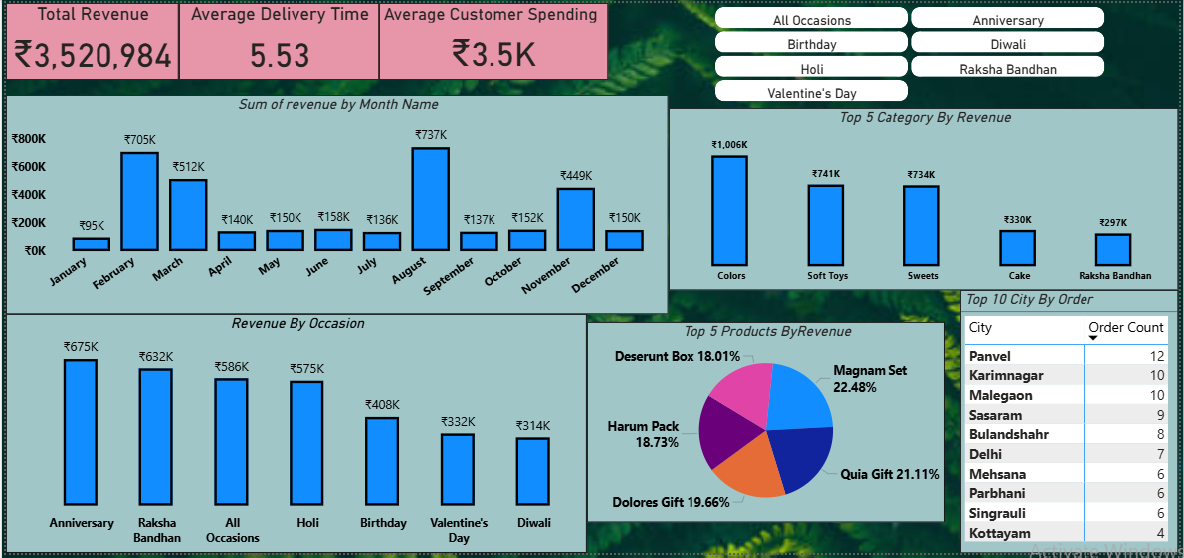

What the dashboard file says about the page in this screenshot:
{"tool":"powerbi","page":{"name":"Page 1","canvas":[1500,700],"ordinal":0},"visuals":[{"type":"card","title":"Total Revenue","fields":{"Values":["Sum(orders.sale)"]},"box":[0,0,221.2,98],"z":0},{"type":"card","title":"Average Delivery Time","fields":{"Values":["Avg(orders.diff_order_delivery)"]},"box":[221.2,0,256.2,98],"z":1000},{"type":"columnChart","fields":{"Category":["orders.Month Name"],"Y":["Sum(orders.revenue)"]},"box":[0,117.6,847,278.6],"z":2000},{"type":"pieChart","title":"Top 5 Products ByRevenue","fields":{"Category":["products.Product_Name"],"Y":["Sum(orders.revenue)"]},"box":[743.4,406,457.8,254.8],"z":3000},{"type":"card","title":"Average Customer Spending","fields":{"Values":["Avg(orders.revenue)"]},"box":[477.4,0,292.6,98],"z":4000},{"type":"columnChart","title":"Top 5 Category By Revenue","fields":{"Category":["products.Category"],"Y":["Sum(orders.revenue)"]},"box":[847,133,652.4,232.4],"z":5000},{"type":"pivotTable","title":"Top 10 City By Order","fields":{"Rows":["customers.City"],"Values":["CountNonNull(orders.Order_ID)"]},"box":[1220.8,365.4,278.6,334.6],"z":6000},{"type":"columnChart","title":"Revenue By Occasion","fields":{"Category":["orders.Occasion"],"Y":["Sum(orders.revenue)"]},"box":[0,396.2,743.4,303.8],"z":7000},{"type":"advancedSlicerVisual","fields":{"Values":["orders.Occasion"]},"box":[907.2,0,498.4,127.4],"z":8000}]}

Visuals, with their boxes in screenshot pixels (x1, y1, x2, y2), scaled from the page's 1500x700 canvas onto the 1184x558 screenshot:
"Total Revenue" card: rect(0, 0, 175, 78)
"Average Delivery Time" card: rect(175, 0, 377, 78)
columnChart - orders.Month Name x Sum(orders.revenue): rect(0, 94, 669, 316)
"Top 5 Products ByRevenue" pieChart: rect(587, 324, 948, 527)
"Average Customer Spending" card: rect(377, 0, 608, 78)
"Top 5 Category By Revenue" columnChart: rect(669, 106, 1183, 291)
"Top 10 City By Order" pivotTable: rect(964, 291, 1183, 557)
"Revenue By Occasion" columnChart: rect(0, 316, 587, 557)
advancedSlicerVisual - orders.Occasion: rect(716, 0, 1109, 102)
